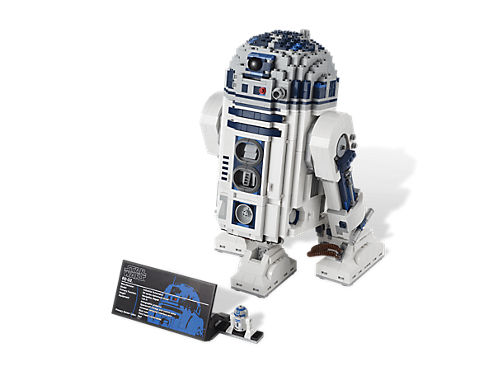r2d2: (202, 30, 384, 297), (226, 307, 257, 341)
